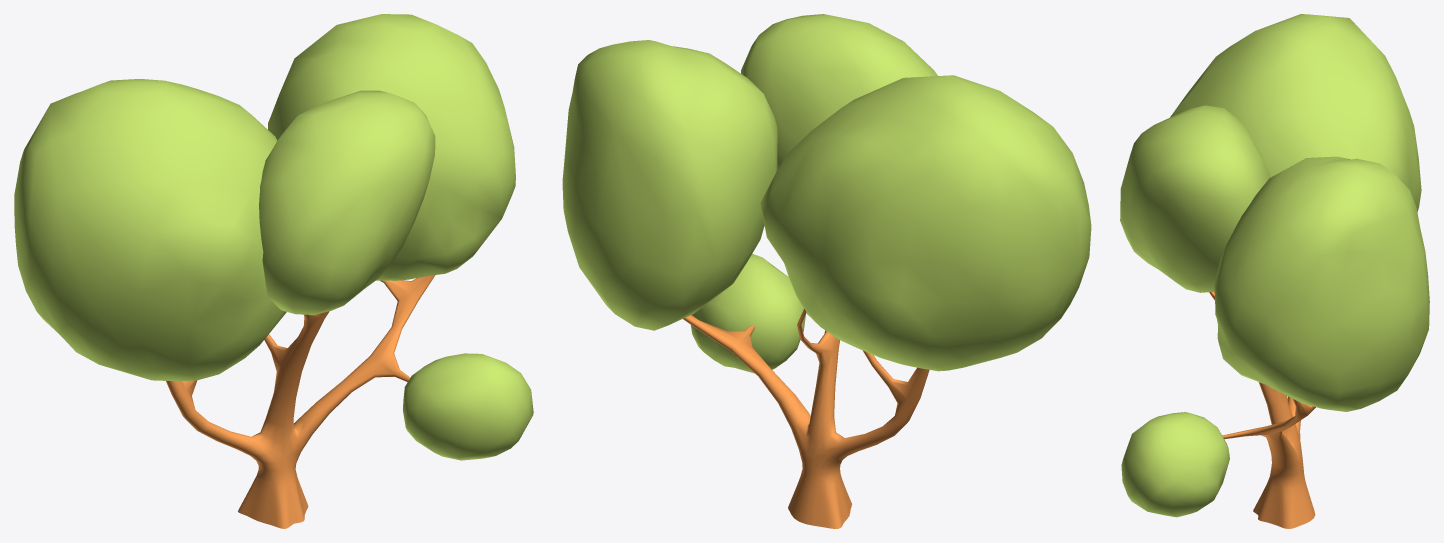
The model's file is BigTree_B.fbx.
The picture shows the model from 3 angles, left to right: view 1: azimuth 30°, elevation 25°; view 2: azimuth 150°, elevation 25°; view 3: azimuth 270°, elevation 25°; orthographic projection. The views are drawn at different scales.
Parts seen in each view (by area): view 1: Oak_Tree_l_01; view 2: Oak_Tree_l_01; view 3: Oak_Tree_l_01.
Boxes of the visible parts, bbox=[...] form: Oak_Tree_l_01: bbox=[14, 14, 533, 528]; Oak_Tree_l_01: bbox=[562, 14, 1091, 528]; Oak_Tree_l_01: bbox=[1120, 14, 1429, 528].
Bounding box in the file's own units: 1229 × 1105 × 724.
